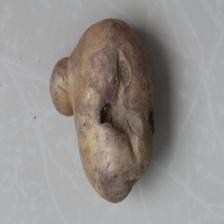Diseased-fungal potato: (50, 15, 158, 204)
